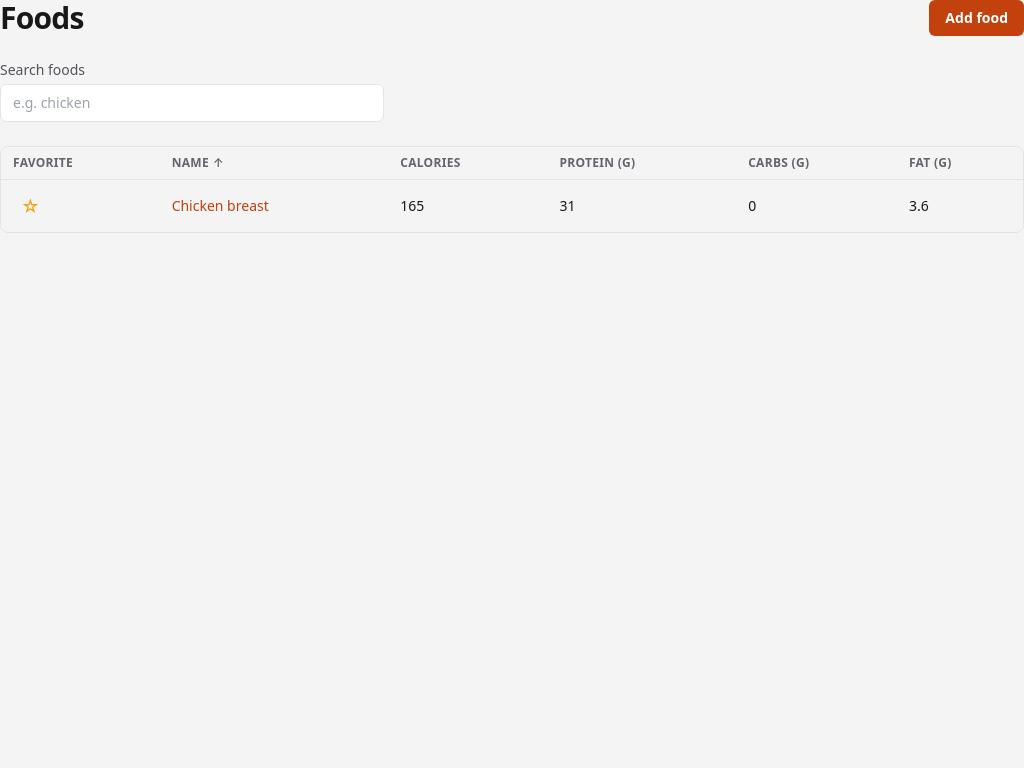
Test: FoodsPage › opens the edit modal on row click, prefilled, with serving unit disabled
Click the button "Chicken breast" at (220,206), box [172,196,269,216]
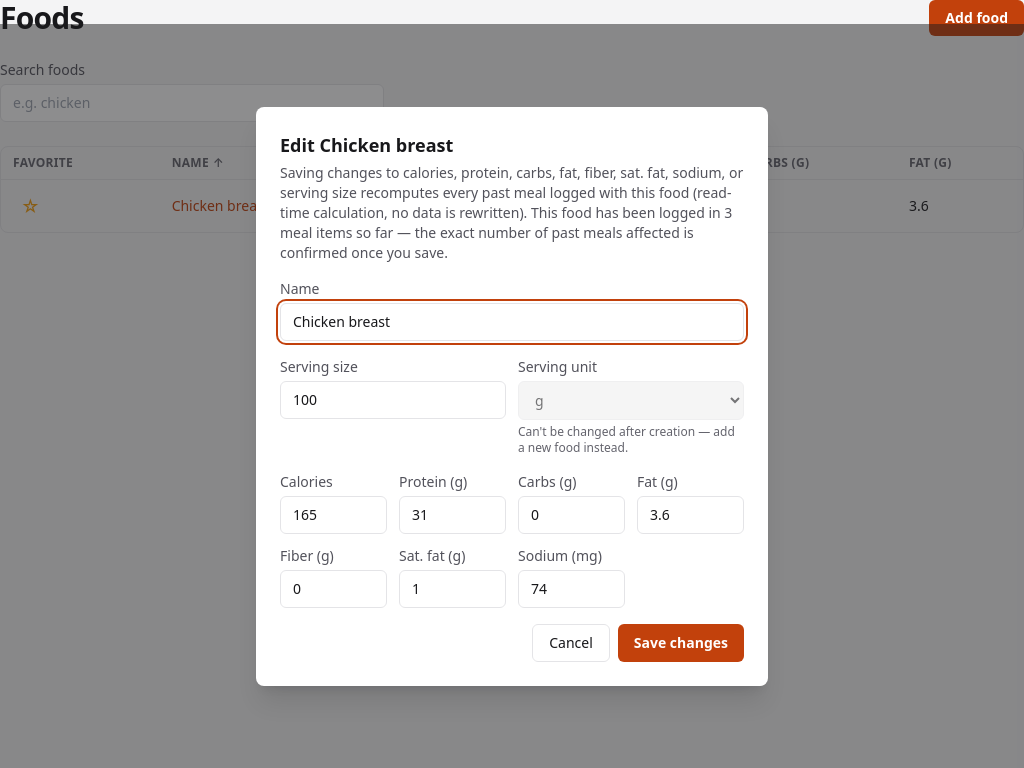
Expected: the number field labelled "Calories" holds "165", [280,496,387,534]
Expected: the dropdown labelled "Serving unit" is disabled, [518,380,744,420]
Expected: the text "logged in 3 meal items" is shown, [280,162,744,262]
